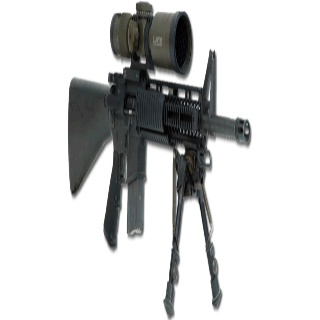rifle: (67, 2, 252, 319)
